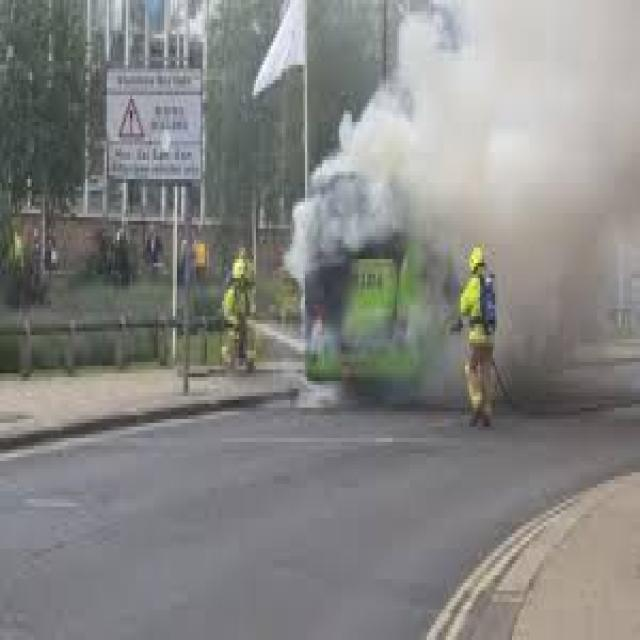Smoke: (281, 0, 640, 410)
